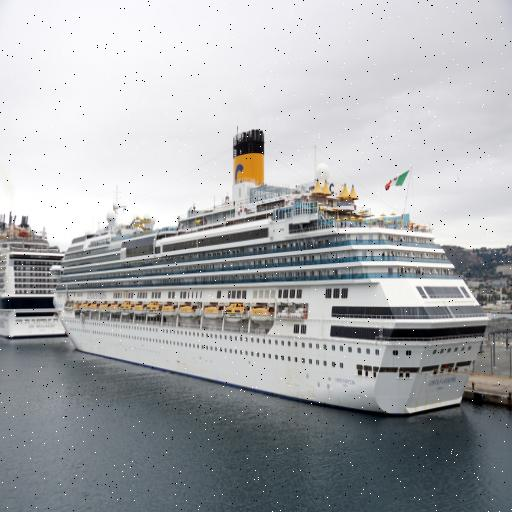cruises: (51, 128, 494, 430)
